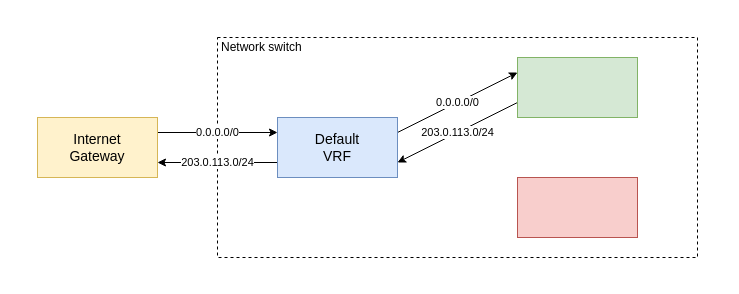
Image size: 739x294. Some labels were removed from this diagram. The box of each missing label's shape, as (x1, y1, x2, y2) in pixels:
Internal Service: (516, 176, 638, 238)
Public Service: (516, 56, 638, 118)
